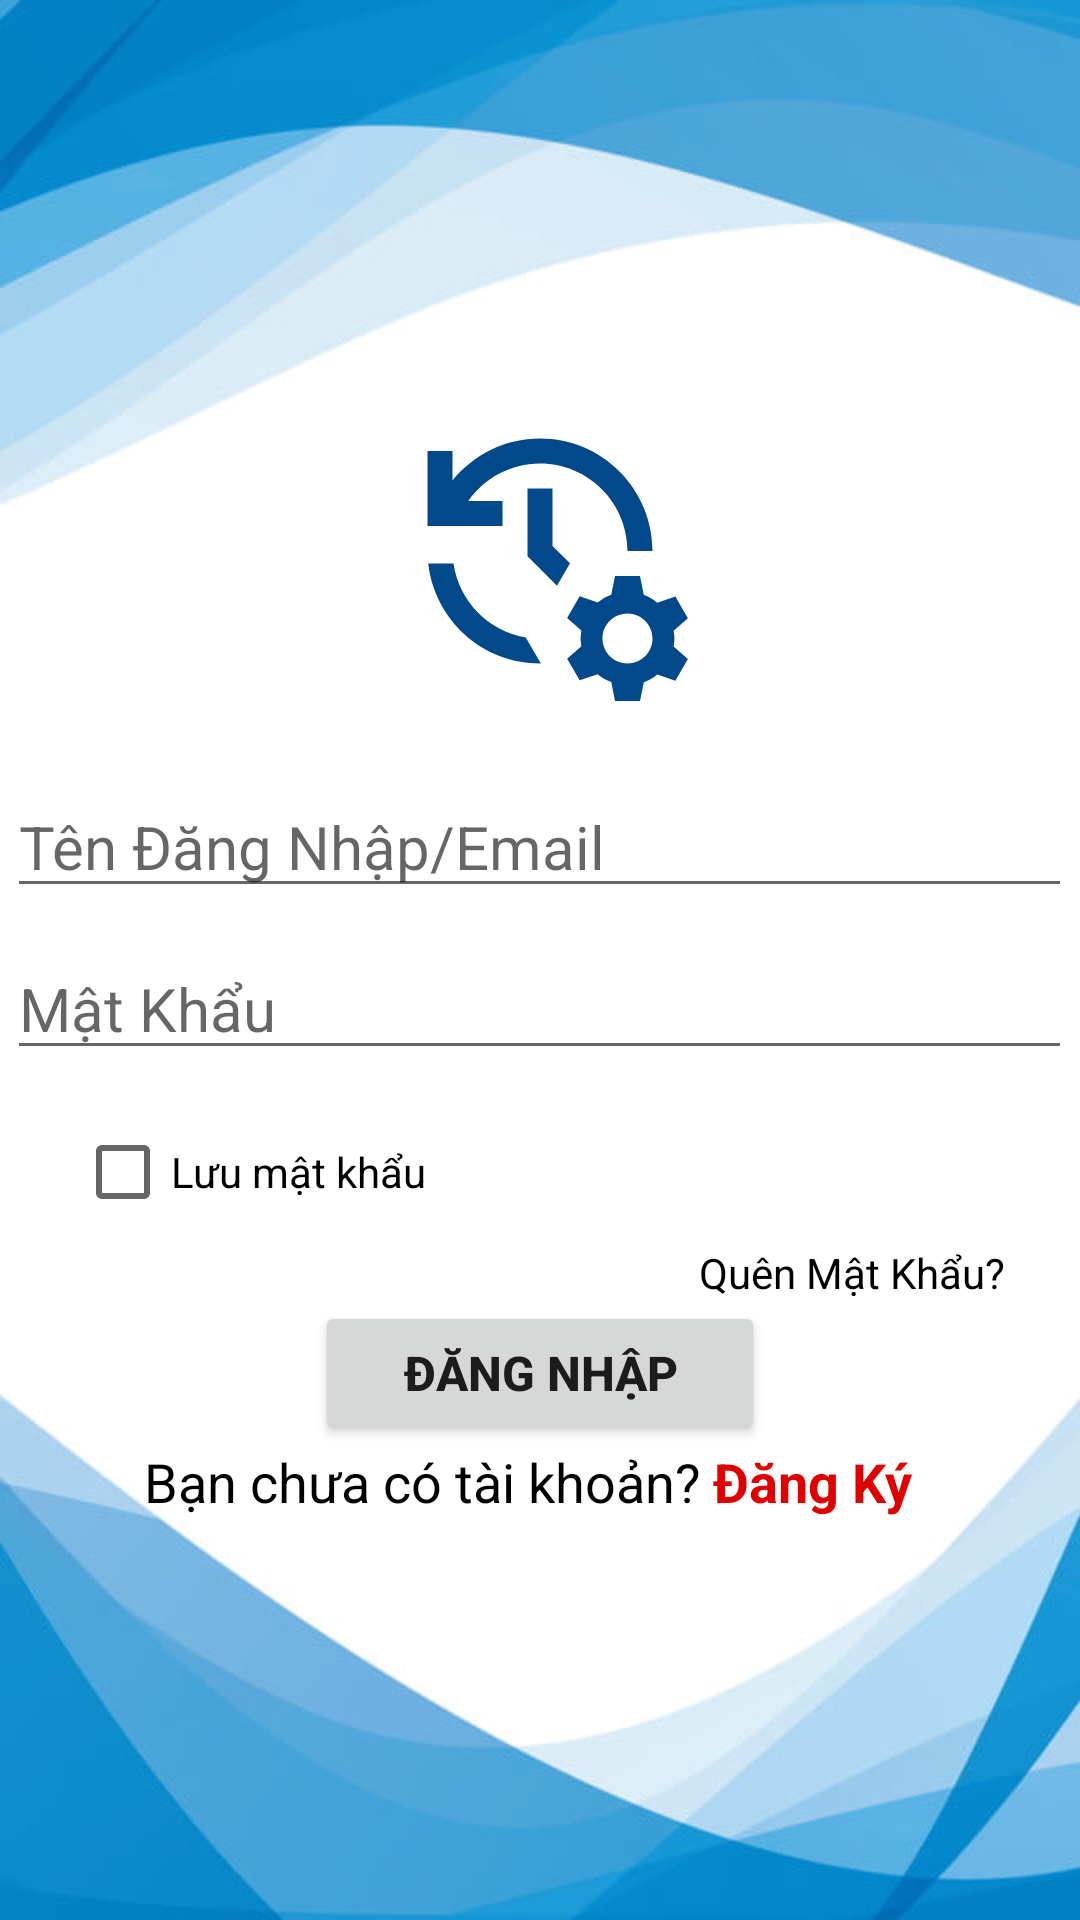

Icon bounding boxes for this 1080w x 1920h phone screenshot, format [x1,y1,x2,y2]:
manage history: [427,438,688,701]
